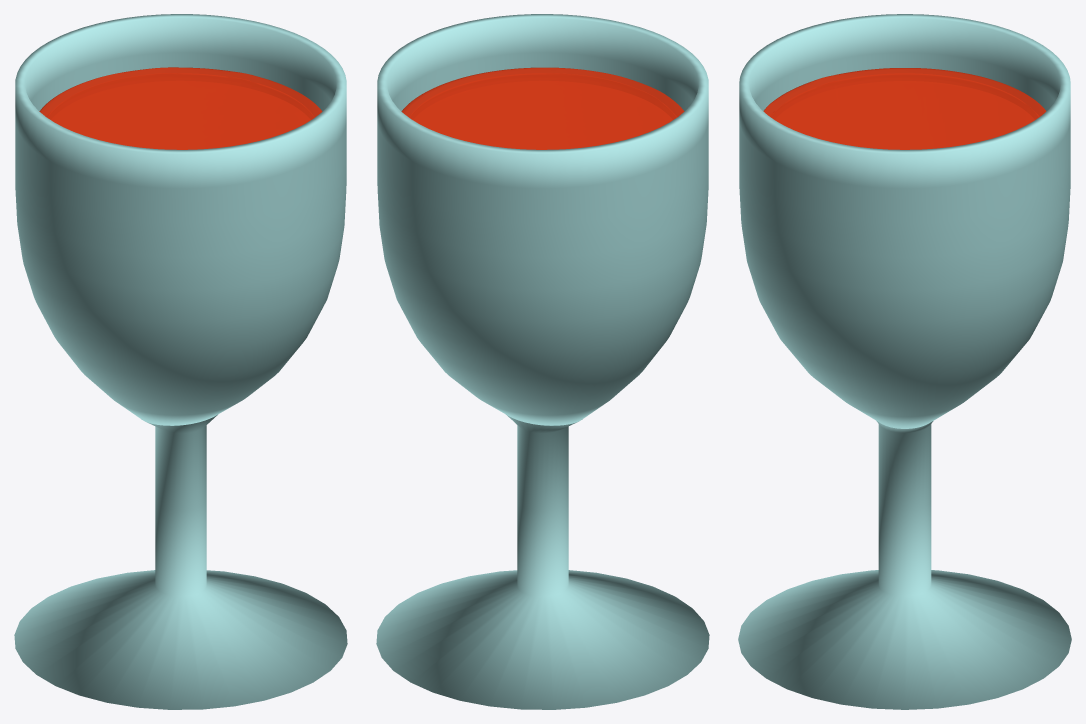
The model's file is wine glas.glb.
3 views of the same model, side by side, from view 1: azimuth 30°, elevation 25°; view 2: azimuth 150°, elevation 25°; view 3: azimuth 270°, elevation 25° (orthographic).
Parts seen in each view (by area): view 1: Circle.001, Circle, Circle.002; view 2: Circle.001, Circle, Circle.002; view 3: Circle.001, Circle, Circle.002.
Part boxes in pixels (left/top/right/bottom): Circle.001: left=15, top=14, right=346, bottom=425; Circle: left=14, top=414, right=347, bottom=709; Circle.002: left=39, top=67, right=322, bottom=149; Circle.001: left=377, top=14, right=708, bottom=425; Circle: left=376, top=414, right=709, bottom=709; Circle.002: left=401, top=67, right=684, bottom=149; Circle.001: left=739, top=14, right=1070, bottom=428; Circle: left=738, top=421, right=1071, bottom=709; Circle.002: left=763, top=68, right=1046, bottom=149.
Bounding box in the file's own units: 2 × 3.67 × 2.
